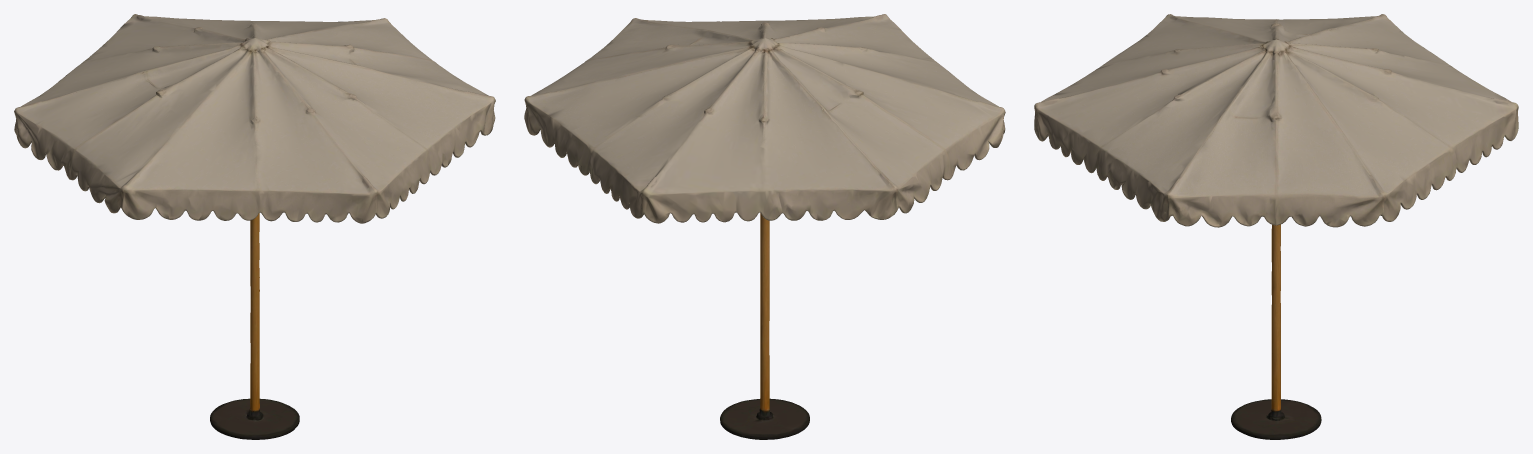
The model's file is parasol.glb.
The picture shows the model from 3 angles, left to right: view 1: azimuth 30°, elevation 25°; view 2: azimuth 150°, elevation 25°; view 3: azimuth 270°, elevation 25°; orthographic projection.
Visible parts, largest first — view 1: tripo_node_c5fddceb-880e-443e-9858-cbbeee4b30f0; view 2: tripo_node_c5fddceb-880e-443e-9858-cbbeee4b30f0; view 3: tripo_node_c5fddceb-880e-443e-9858-cbbeee4b30f0.
Part boxes in pixels (<box>): tripo_node_c5fddceb-880e-443e-9858-cbbeee4b30f0: <box>14,14,495,439</box>; tripo_node_c5fddceb-880e-443e-9858-cbbeee4b30f0: <box>524,14,1005,439</box>; tripo_node_c5fddceb-880e-443e-9858-cbbeee4b30f0: <box>1034,14,1518,439</box>.
Bounding box in the file's own units: 2.18 × 2.1 × 2.41.
Materials: 1 (1 with a texture image).
